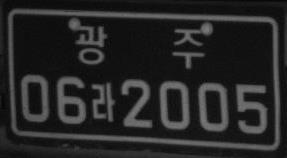0: (196, 80, 230, 133), (158, 79, 191, 131), (20, 72, 50, 124)
2: (119, 77, 154, 130)
5: (234, 81, 269, 136)
6: (55, 74, 87, 125)
광주_D: (73, 22, 207, 71)
라: (90, 80, 116, 123)
